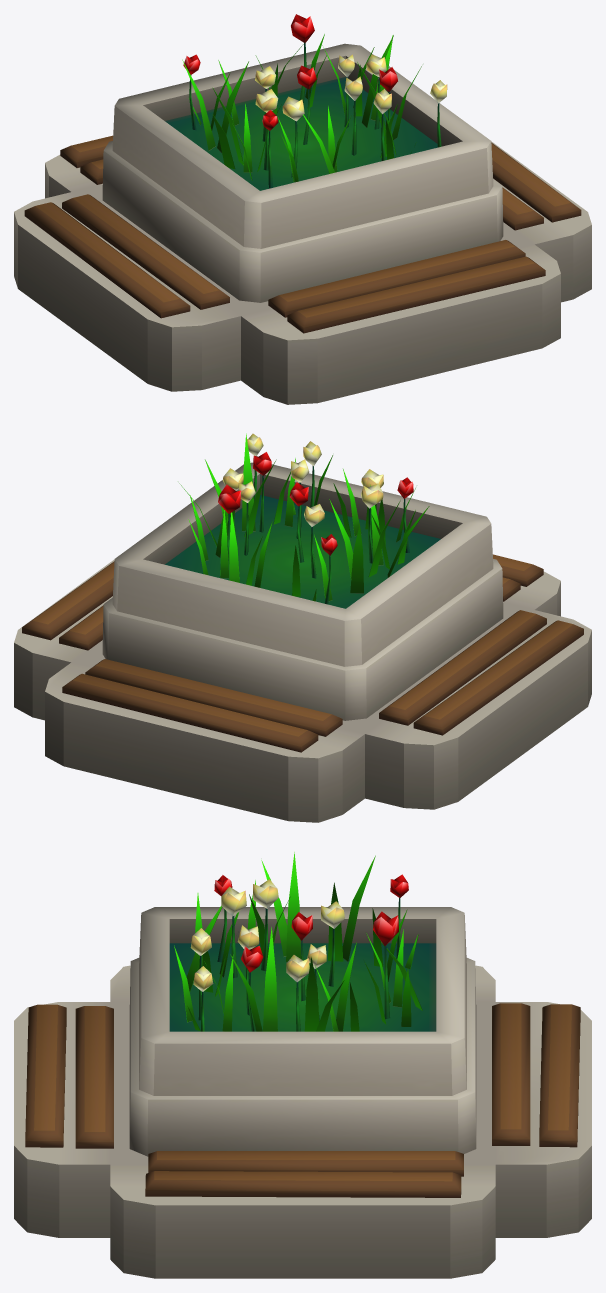
The model's file is Bench_2C.fbx.
3 renders of one model, top to bottom at view 1: azimuth 30°, elevation 25°; view 2: azimuth 150°, elevation 25°; view 3: azimuth 270°, elevation 25°, orthographic. The views are drawn at different scales.
Parts seen in each view (by area): view 1: Bench_2C; view 2: Bench_2C; view 3: Bench_2C.
Boxes of the visible parts, x1,y1,x2,y2 form: Bench_2C: (14,14,591,404); Bench_2C: (14,433,591,822); Bench_2C: (14,852,591,1278).
Bounding box in the file's own units: 152 × 76.52 × 152.
